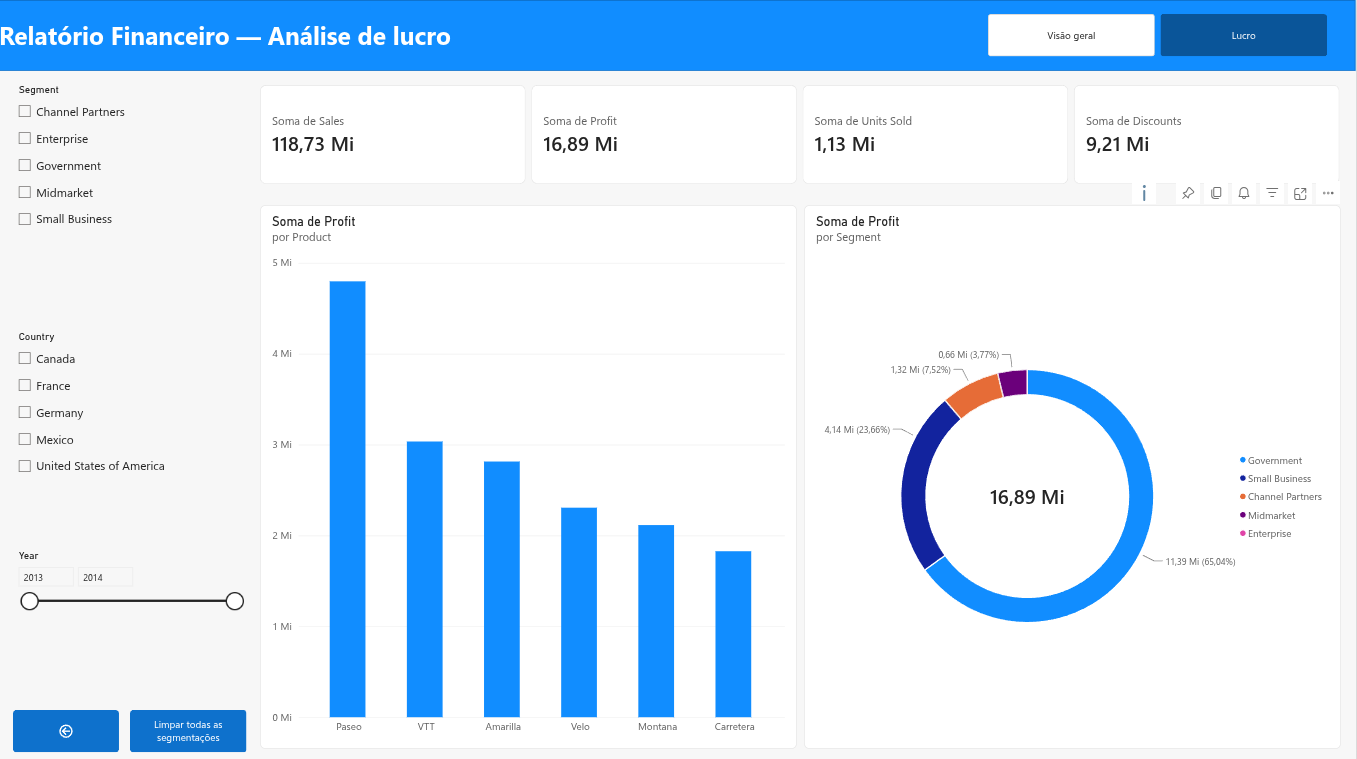

What the dashboard file says about the page in this screenshot:
{"tool":"powerbi","page":{"name":"Lucro","canvas":[1920,1080],"ordinal":1},"visuals":[{"type":"cardVisual","fields":{"Data":["Sum(financials. Sales)","Sum(financials.Profit)","Sum(financials.Units Sold)","Sum(financials.Discounts)"]},"box":[370,120,1530,140],"z":0},{"type":"slicer","fields":{"Values":["financials.Segment"]},"box":[20,120,330,330],"z":1000},{"type":"slicer","fields":{"Values":["financials.Country"]},"box":[20,470,330,300],"z":2000},{"type":"slicer","fields":{"Values":["financials.Year"]},"box":[20,780,330,200],"z":3000},{"type":"shape","box":[0,0,1920,100],"z":4000},{"type":"clusteredColumnChart","fields":{"Category":["financials.Product"],"Y":["Sum(financials.Profit)"]},"box":[370,290,760,770],"z":5000},{"type":"donutChart","fields":{"Category":["financials.Segment"],"Y":["Sum(financials.Profit)"]},"box":[1140,290,760,770],"z":6000},{"type":"pageNavigator","box":[1400,20,480,60],"z":7000},{"type":"actionButton","box":[20,1005,150,60],"z":7001},{"type":"actionButton","box":[185,1005,165,60],"z":7002}]}

Visuals, with their boxes in screenshot pixels (x1, y1, x2, y2), scaled from the page's 1920x1080 canvas onto the 1357x759 screenshot:
cardVisual - Sum(financials. Sales) x Sum(financials.Profit): bbox=[262, 84, 1343, 183]
slicer - financials.Segment: bbox=[14, 84, 247, 316]
slicer - financials.Country: bbox=[14, 330, 247, 541]
slicer - financials.Year: bbox=[14, 548, 247, 689]
shape: bbox=[0, 0, 1356, 70]
clusteredColumnChart - financials.Product x Sum(financials.Profit): bbox=[262, 204, 799, 745]
donutChart - financials.Segment x Sum(financials.Profit): bbox=[806, 204, 1343, 745]
pageNavigator: bbox=[989, 14, 1329, 56]
actionButton: bbox=[14, 706, 120, 748]
actionButton: bbox=[131, 706, 247, 748]
